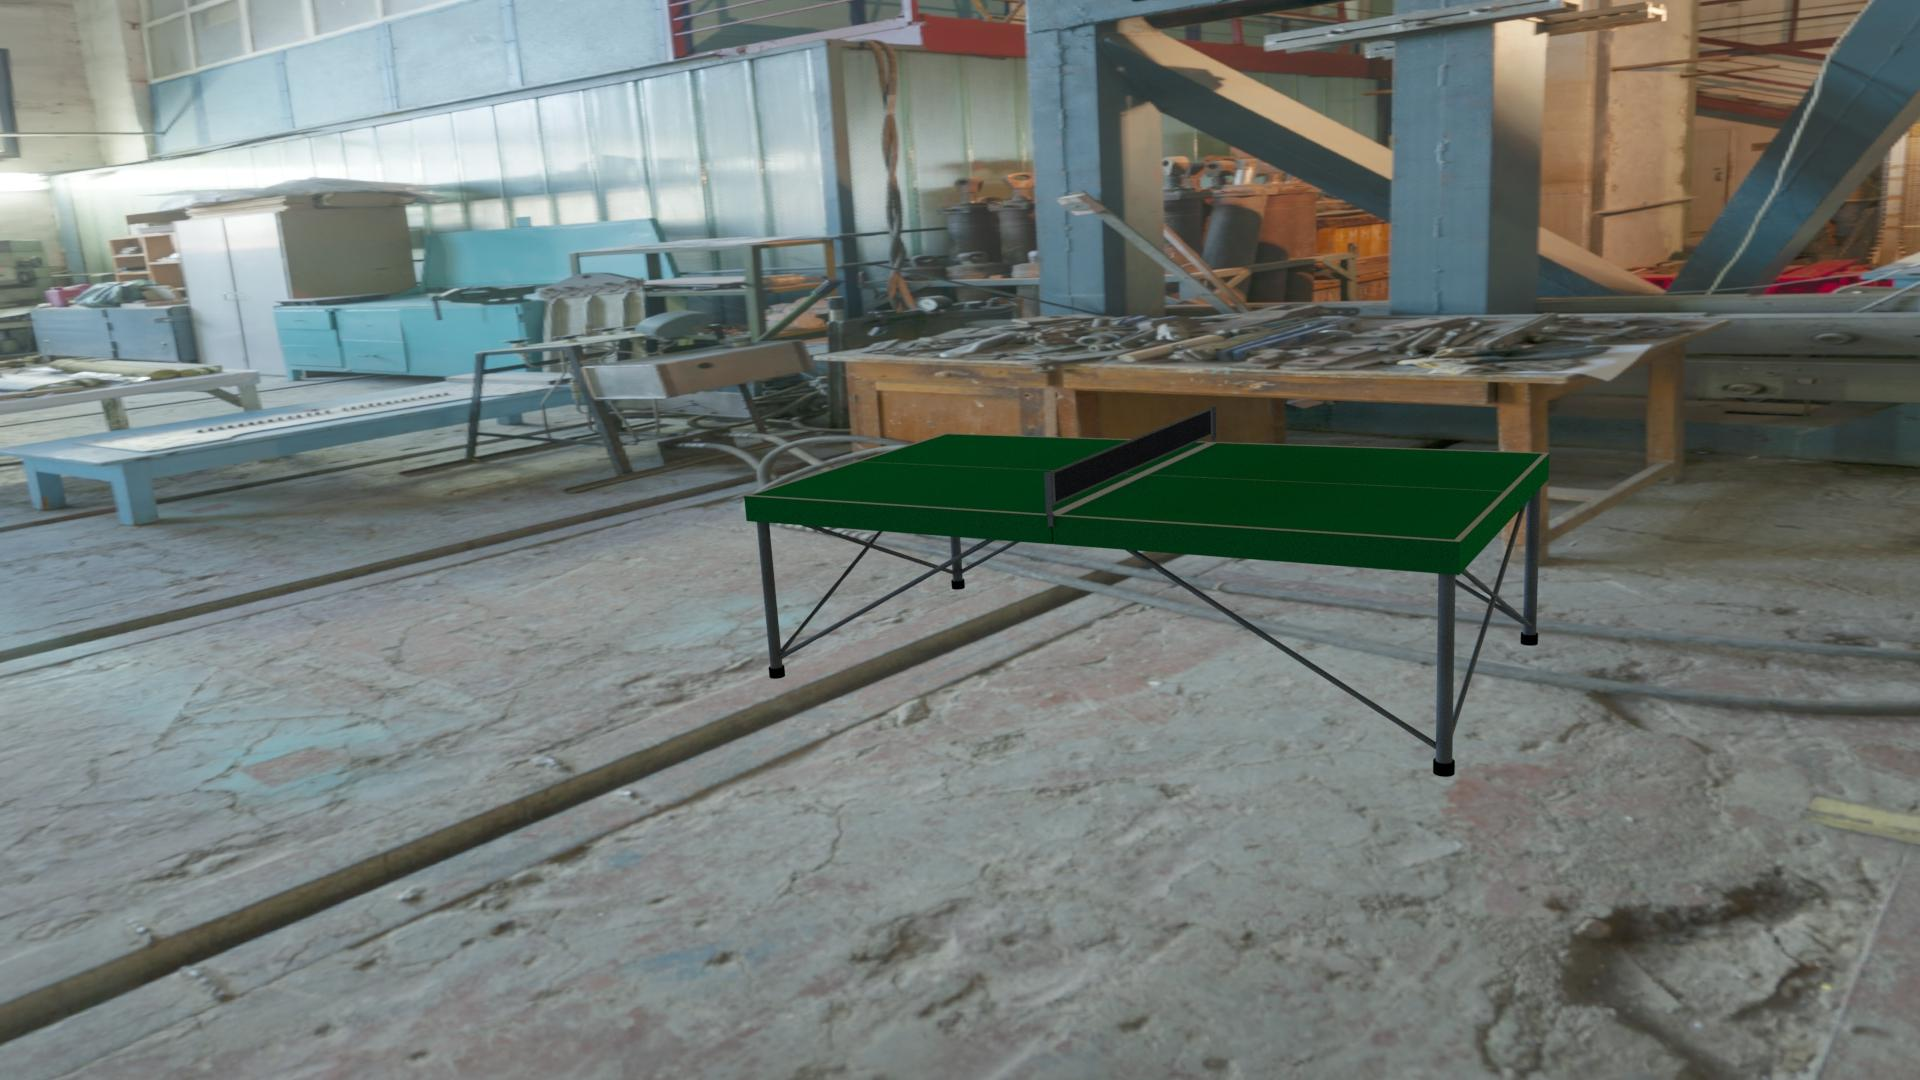table: (752, 434, 1543, 539)
